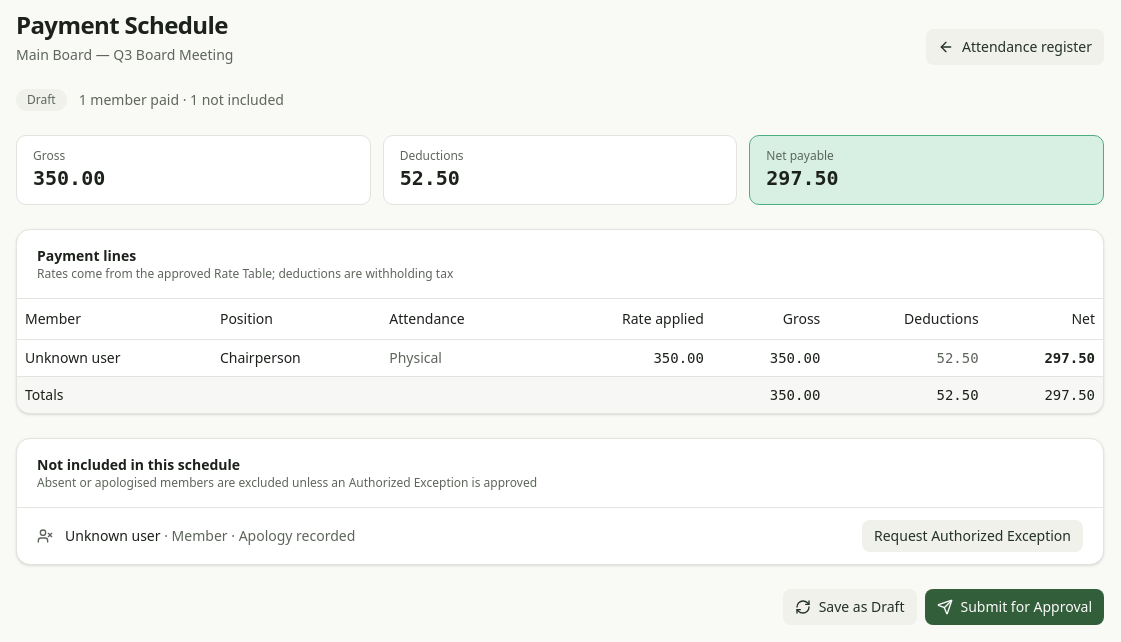
Test: StaffPaymentSchedule › submits the schedule for approval
Step 1. Click the button "Submit for Approval" → (1014, 606), box 924,588 -> 1104,624
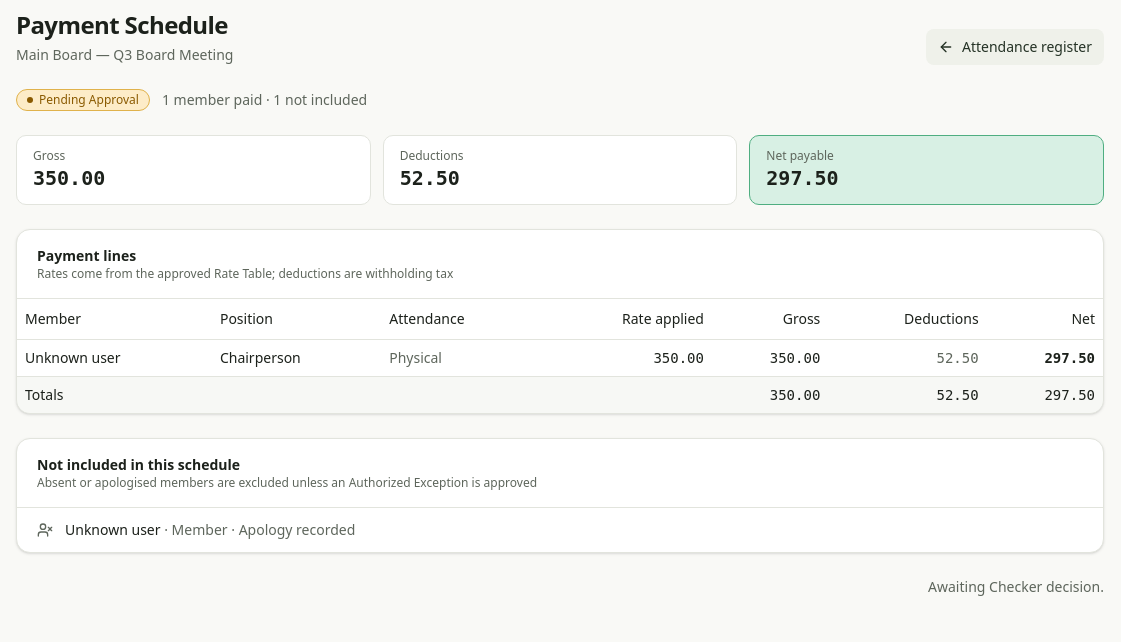
Check: the text "Awaiting Checker decision." is shown, box 928,576 -> 1104,596
